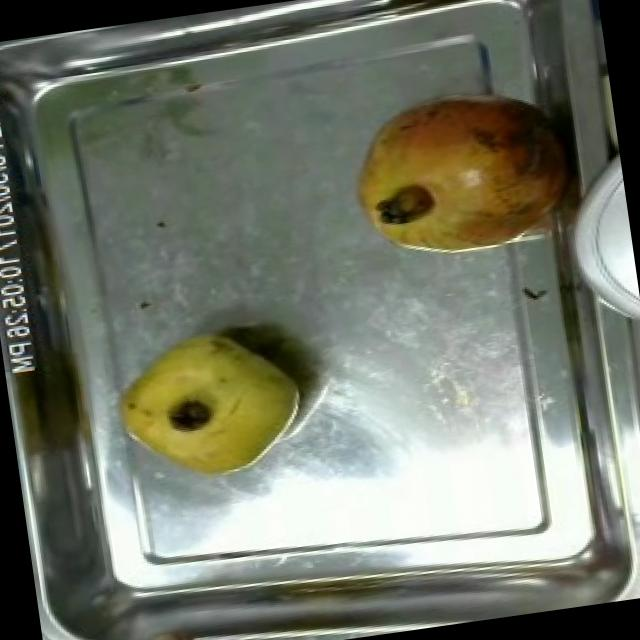fruit: (327, 64, 588, 279), (100, 315, 318, 497), (131, 621, 234, 640)
